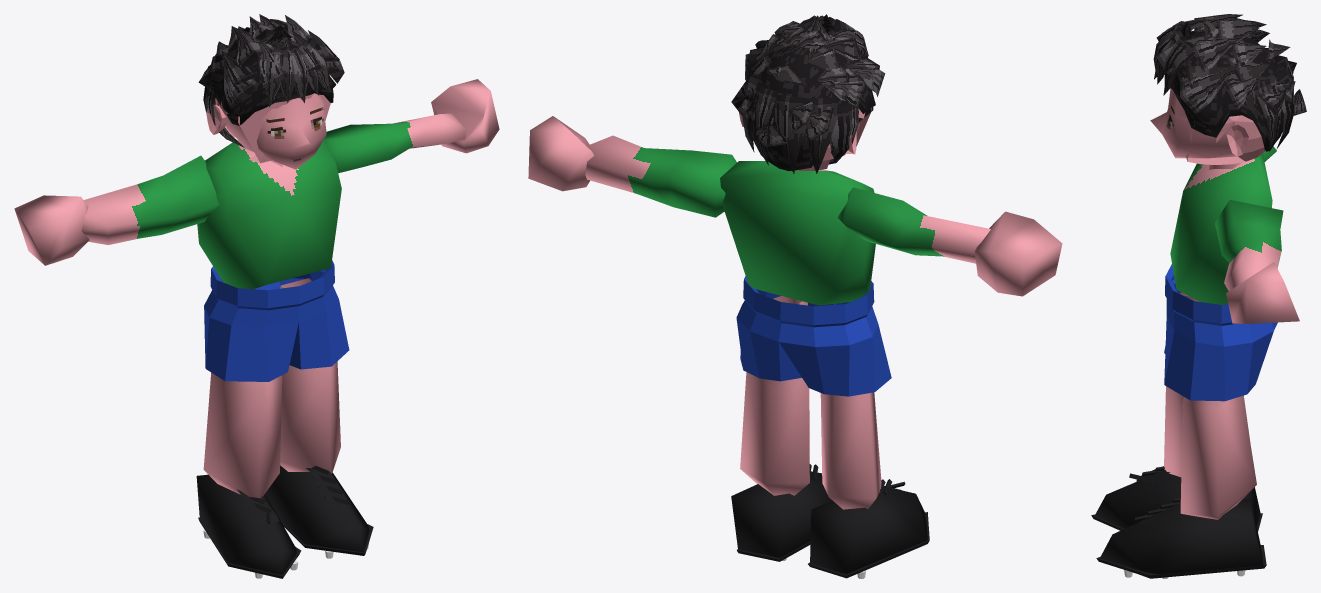
Rendered from 06-espetado-gel_preto.glb.
3 views of the same model, side by side, from view 1: azimuth 30°, elevation 25°; view 2: azimuth 150°, elevation 25°; view 3: azimuth 270°, elevation 25° (orthographic). The views are drawn at different scales.
Visible parts, largest first — view 1: Camisa_Tronco, Bermuda, Cabelo, Perna.R, Braco.R, Perna.L, Chuteira.R, Chuteira.L, Braco.L, Mao.R, Cabeca, Mao.L (+3 smaller); view 2: Camisa_Tronco, Cabelo, Bermuda, Perna.L, Braco.L, Chuteira.R, Perna.R, Braco.R, Mao.R, Chuteira.L, Mao.L, Chuteira_Sola.R; view 3: Cabelo, Bermuda, Chuteira.L, Camisa_Tronco, Perna.L, Braco.L, Mao.L, Chuteira.R, Cabeca, Perna.R, Cranio, Chuteira_Sola.L (+3 smaller).
Boxes of the visible parts, bbox=[...] form: Camisa_Tronco: bbox=[197, 140, 341, 289]; Bermuda: bbox=[204, 260, 349, 381]; Cabelo: bbox=[198, 14, 344, 148]; Perna.R: bbox=[203, 372, 282, 502]; Braco.R: bbox=[81, 155, 219, 244]; Perna.L: bbox=[280, 278, 340, 473]; Chuteira.R: bbox=[196, 474, 299, 575]; Chuteira.L: bbox=[265, 465, 369, 552]; Braco.L: bbox=[323, 113, 466, 172]; Mao.R: bbox=[14, 195, 89, 265]; Cabeca: bbox=[218, 93, 326, 169]; Mao.L: bbox=[431, 79, 499, 153]; Camisa_Tronco: bbox=[720, 161, 875, 305]; Cabelo: bbox=[731, 14, 885, 173]; Bermuda: bbox=[736, 276, 891, 396]; Perna.L: bbox=[740, 296, 809, 495]; Braco.L: bbox=[585, 135, 736, 217]; Chuteira.R: bbox=[810, 486, 927, 574]; Perna.R: bbox=[820, 392, 881, 509]; Braco.R: bbox=[837, 187, 990, 263]; Mao.R: bbox=[974, 211, 1062, 296]; Chuteira.L: bbox=[731, 471, 832, 557]; Mao.L: bbox=[528, 116, 594, 191]; Chuteira_Sola.R: bbox=[808, 512, 929, 578]; Cabelo: bbox=[1153, 14, 1306, 151]; Bermuda: bbox=[1164, 264, 1277, 401]; Chuteira.L: bbox=[1100, 498, 1263, 578]; Camisa_Tronco: bbox=[1170, 154, 1272, 304]; Perna.L: bbox=[1180, 396, 1256, 519]; Braco.L: bbox=[1215, 200, 1283, 290]; Mao.L: bbox=[1226, 262, 1299, 323]; Chuteira.R: bbox=[1094, 470, 1260, 528]; Cabeca: bbox=[1150, 88, 1236, 158]; Perna.R: bbox=[1164, 292, 1249, 477]; Cranio: bbox=[1186, 115, 1265, 164]; Chuteira_Sola.L: bbox=[1096, 545, 1266, 578].
Size of the model in its own units: 0.4523 by 0.4575 by 0.167.
3 materials, 3 textured.
